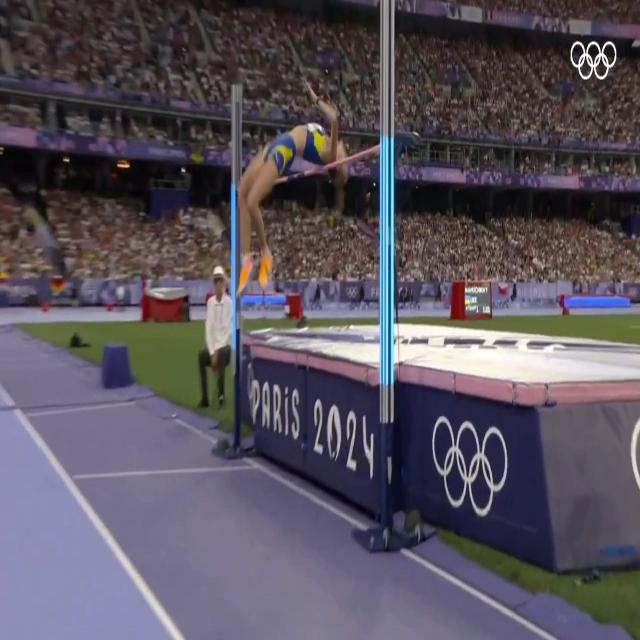jump: (237, 78, 350, 297)
